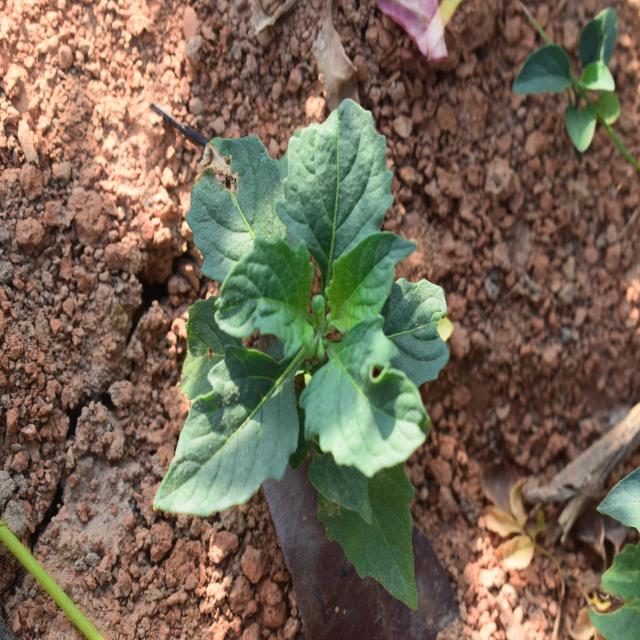Black_nightshade: (179, 109, 444, 548)
